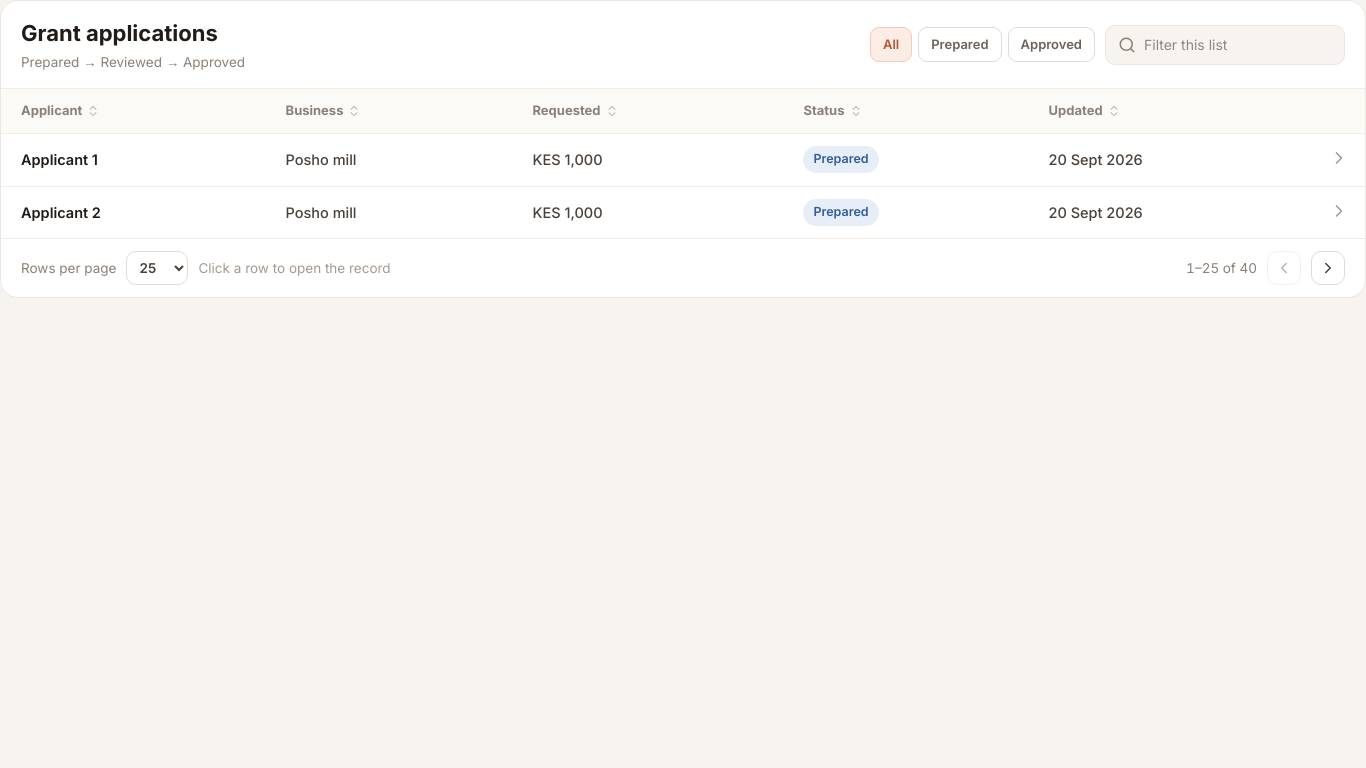
pillar domain register › shows the first page the server rendered and opens a read-only record detail
Check: the text "Applicant 1" is shown, box [21,151,98,168]
Click the button named "View Application #2": (1339, 210) [1327,198,1351,222]
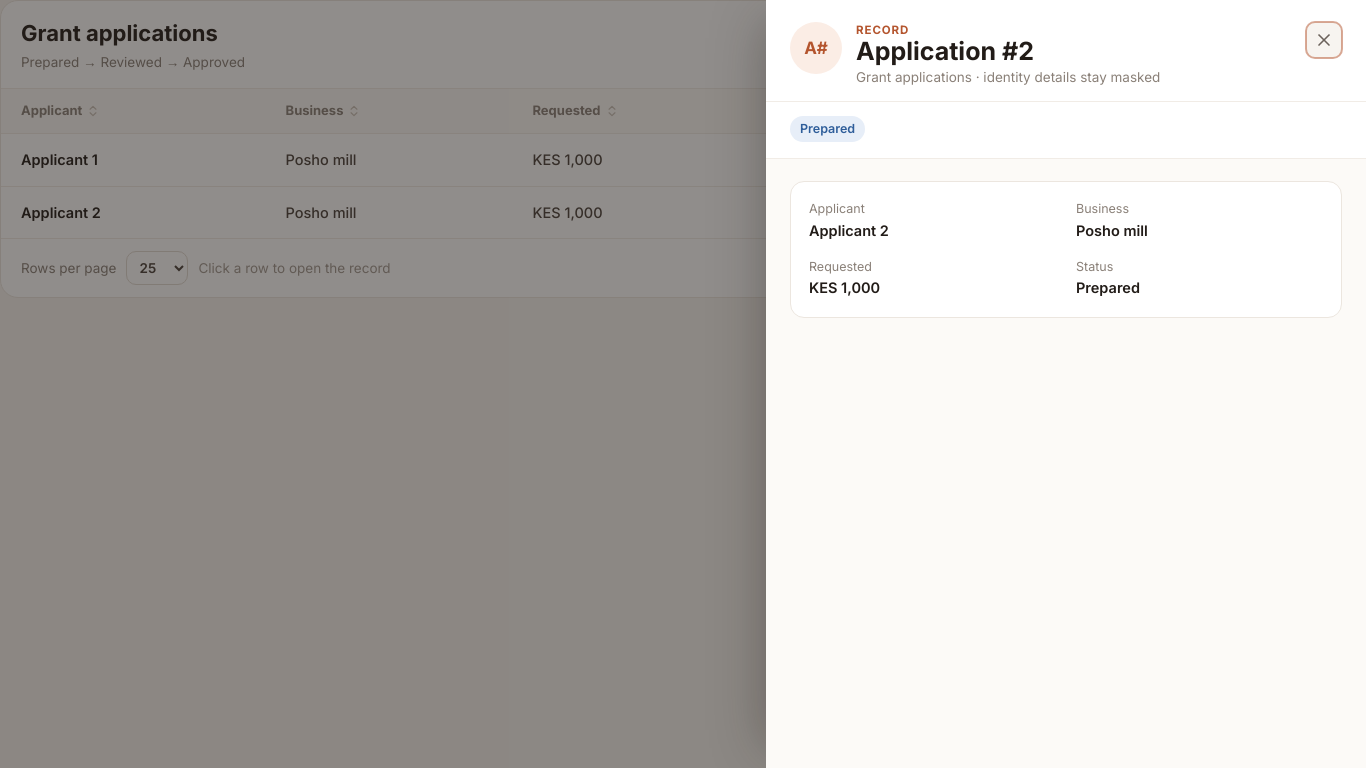
Check: the dialog shows "Applicant 2", box [809,222,889,239]
Check: the dialog shows "Prepared", box [800,121,855,136]
